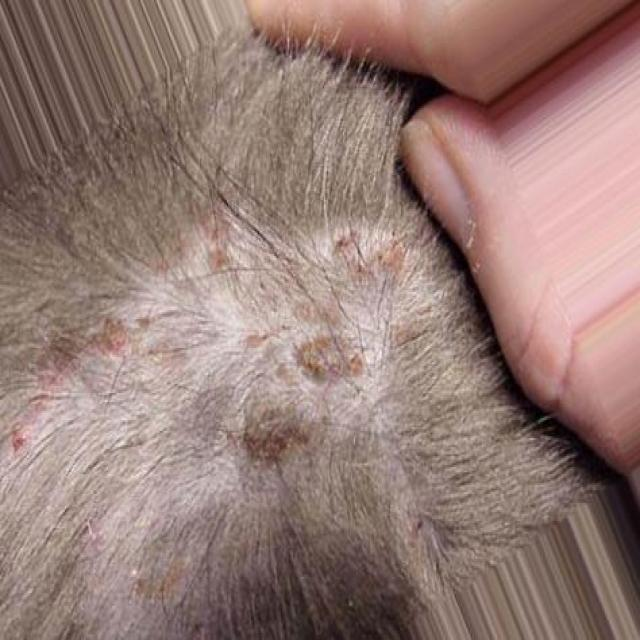di ung bo chet: (0, 166, 479, 640)
